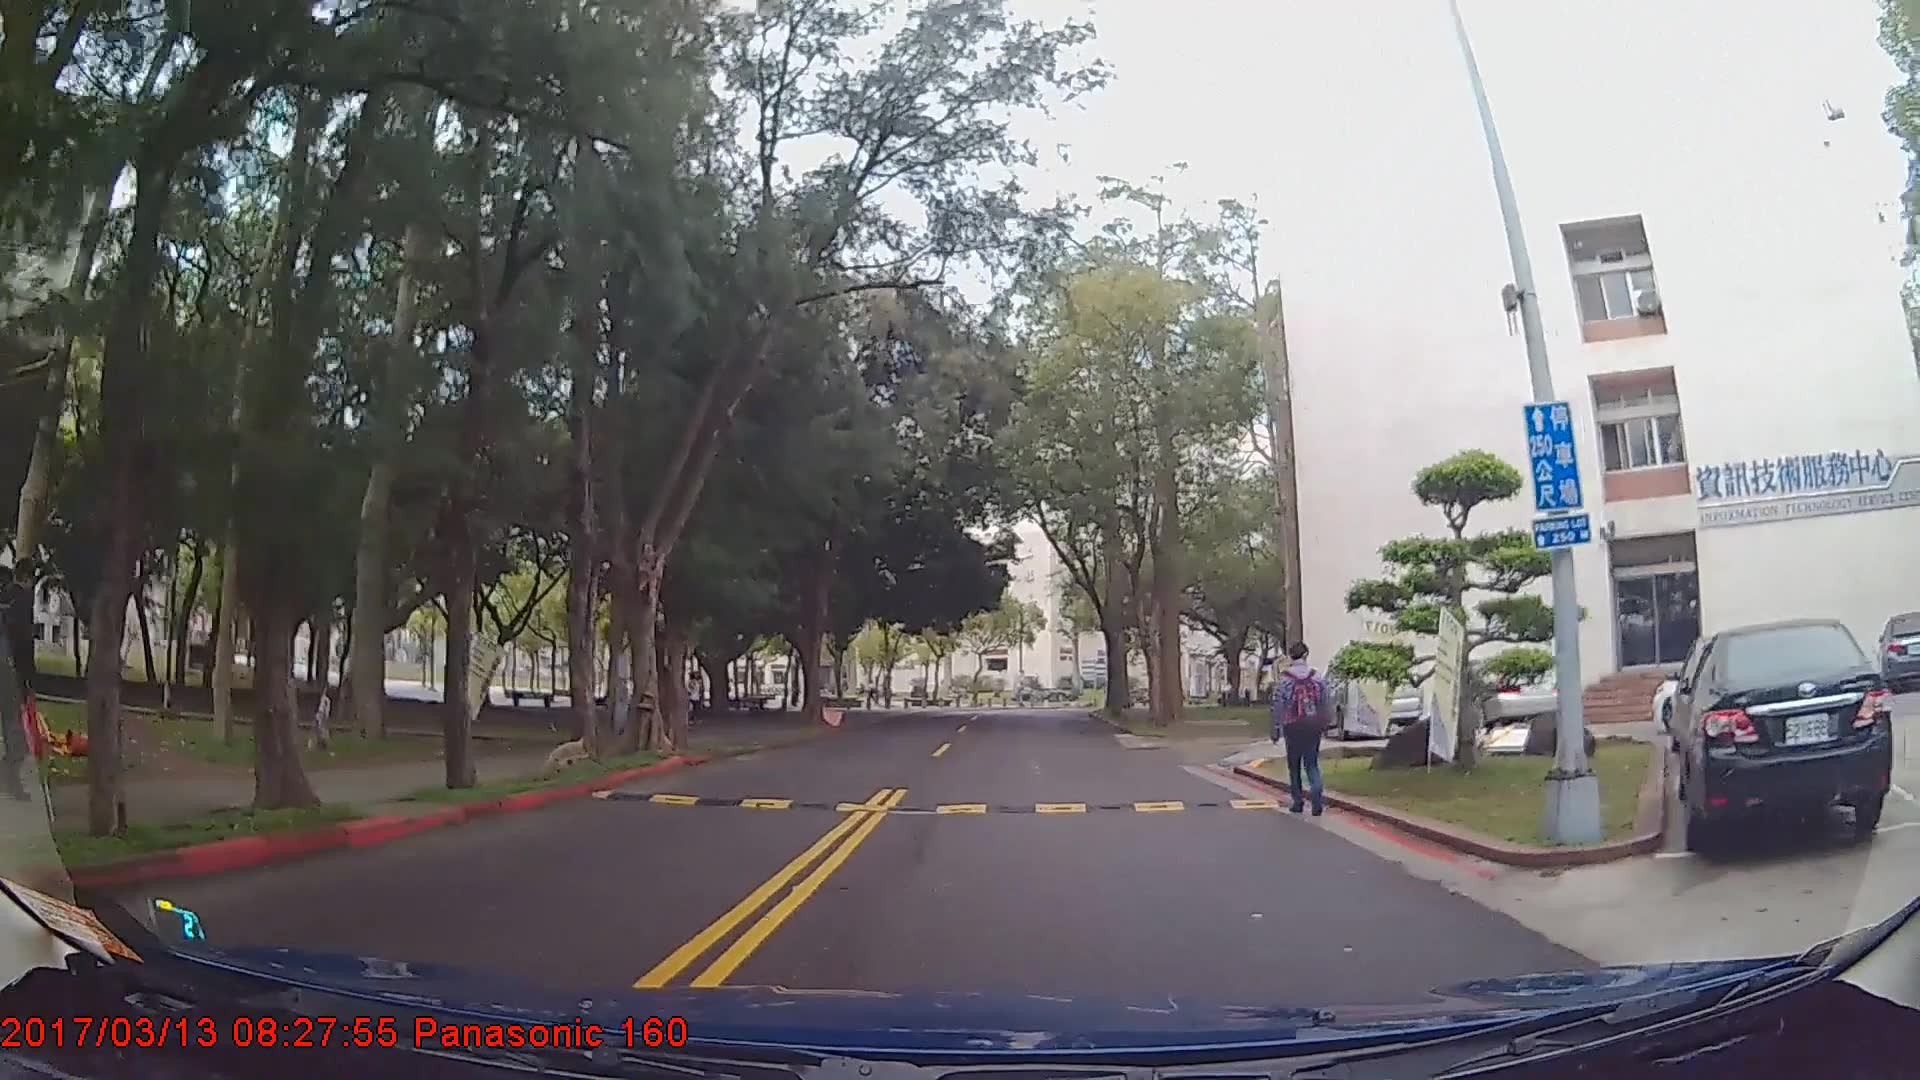pedestrian: (4, 540, 61, 810), (1271, 641, 1347, 822), (687, 670, 708, 734)
vehicle: (1672, 616, 1896, 857), (1878, 613, 1920, 692)
